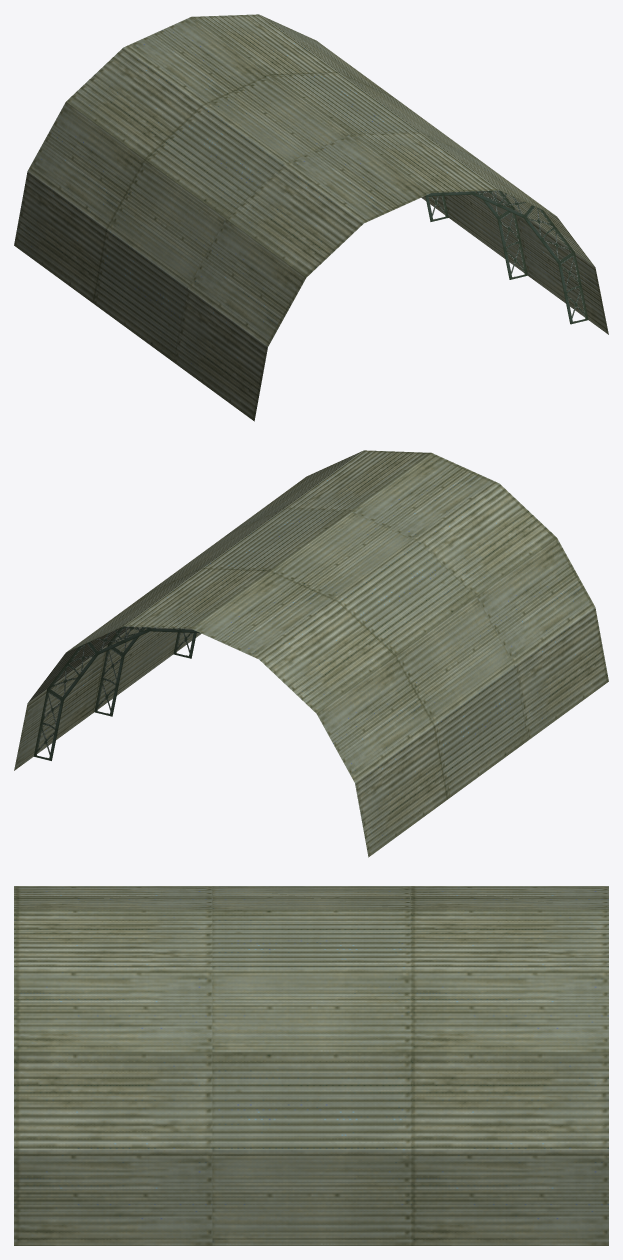
File: hangar.fbx
3 renders of one model, top to bottom at view 1: azimuth 30°, elevation 25°; view 2: azimuth 150°, elevation 25°; view 3: azimuth 270°, elevation 25°, orthographic. The views are drawn at different scales.
Parts seen in each view (by area): view 1: Hangar, HangarbEAMS; view 2: Hangar, HangarbEAMS; view 3: Hangar.
Part boxes in pixels (x1=…): Hangar: x1=14, y1=14, x2=608, y2=421; HangarbEAMS: x1=424, y1=190, x2=588, y2=324; Hangar: x1=14, y1=450, x2=608, y2=857; HangarbEAMS: x1=33, y1=626, x2=200, y2=760; Hangar: x1=14, y1=886, x2=608, y2=1245.
Size of the model in its own units: 1022 by 511 by 1201.
Materials: 1 (1 with a texture image).
